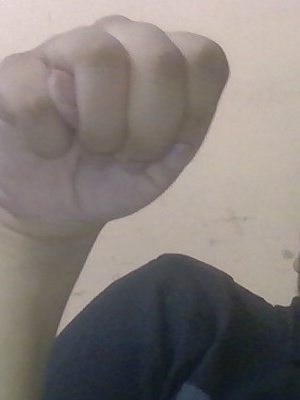M: (1, 9, 231, 275)
